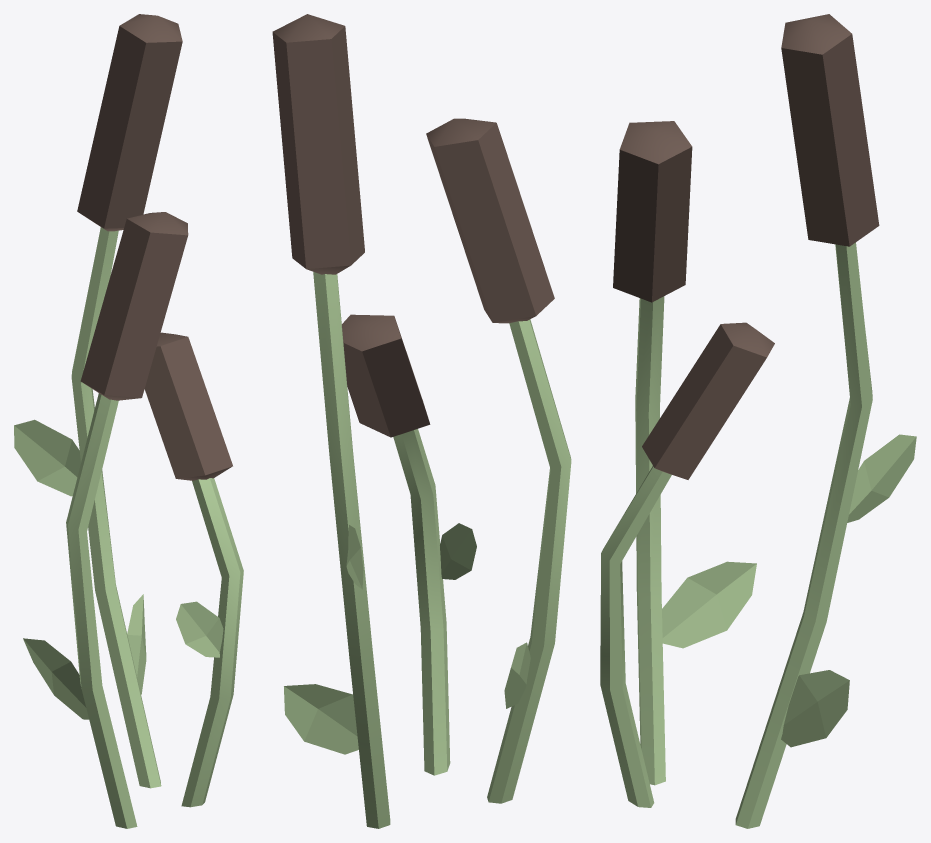
File: reeds.glb
The picture shows the model from 3 angles, left to right: view 1: azimuth 30°, elevation 25°; view 2: azimuth 150°, elevation 25°; view 3: azimuth 270°, elevation 25°; orthographic projection. The views are drawn at different scales.
Visible parts, largest first — view 1: reed3, reed4, reed5; view 2: reed3, reed4, reed5; view 3: reed3, reed4, reed5.
Boxes of the visible parts, left/top/right/bottom form: reed3: left=14, top=14, right=182, bottom=788; reed4: left=23, top=212, right=188, bottom=828; reed5: left=144, top=332, right=243, bottom=807; reed3: left=272, top=14, right=390, bottom=828; reed4: left=426, top=118, right=571, bottom=803; reed5: left=342, top=314, right=476, bottom=775; reed3: left=735, top=14, right=916, bottom=828; reed4: left=613, top=121, right=756, bottom=785; reed5: left=600, top=322, right=774, bottom=807.
Bounding box in the file's own units: 0.0124 × 0.0464 × 0.0162.
